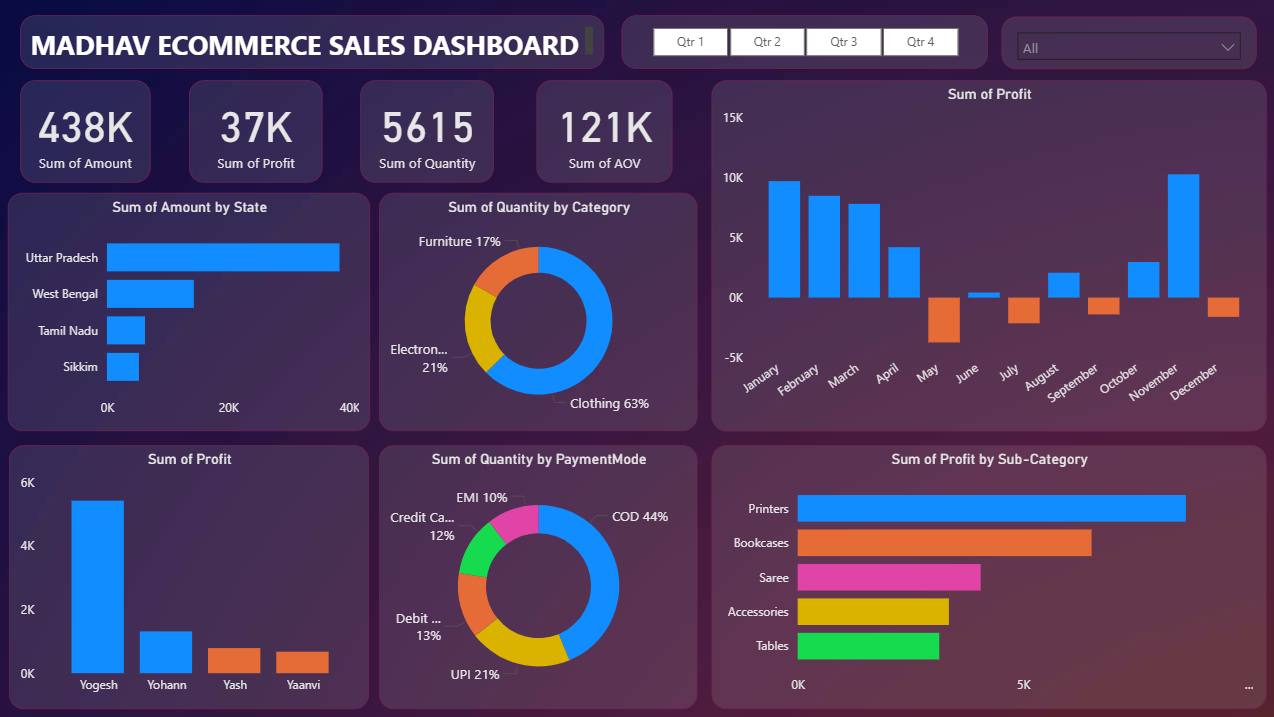

The page's visual inventory and layout, read from the dashboard file:
{"tool":"powerbi","page":{"name":"Page 1","canvas":[1280,720],"ordinal":0},"visuals":[{"type":"textbox","box":[21.2,16.2,583.8,53.8],"z":0},{"type":"columnChart","title":"Sum of Profit ","fields":{"Y":["Details.Profit"],"Category":["Orders.Order Date.Variation.Date Hierarchy.Month"]},"box":[712.5,81.2,555,351.2],"z":1000},{"type":"barChart","fields":{"Category":["Details.Sub-Category"],"Y":["Details.Profit"]},"box":[712.5,446.2,555,263.8],"z":2000},{"type":"donutChart","fields":{"Category":["Details.Category"],"Y":["Details.Quantity"]},"box":[380,193.8,318.8,238.8],"z":3000},{"type":"donutChart","fields":{"Y":["Details.Quantity"],"Category":["Details.PaymentMode"]},"box":[380,446.2,318.8,263.8],"z":4000},{"type":"card","fields":{"Values":["Details.Amount"]},"box":[21.2,81.2,130,102.5],"z":5000},{"type":"card","fields":{"Values":["Details.Profit"]},"box":[190,81.2,133.8,102.5],"z":6000},{"type":"card","fields":{"Values":["Details.Quantity"]},"box":[361.2,81.2,133.8,102.5],"z":7000},{"type":"card","fields":{"Values":["Details.AOV"]},"box":[537.5,81.2,136.2,102.5],"z":8000},{"type":"barChart","fields":{"Category":["Orders.State"],"Y":["Details.Amount"]},"box":[8.8,193.8,362.5,238.8],"z":9000},{"type":"columnChart","title":"Sum of Profit ","fields":{"Category":["Orders.CustomerName"],"Y":["Details.Amount"]},"box":[10,446.2,360,263.8],"z":10000},{"type":"slicer","fields":{"Values":["Orders.Order Date.Variation.Date Hierarchy.Quarter"]},"box":[622.5,16.2,366.2,53.8],"z":11000},{"type":"slicer","fields":{"Values":["Orders.State"]},"box":[1002.5,17.5,255,52.5],"z":12000}]}

Visuals, with their boxes in screenshot pixels (x1, y1, x2, y2), scaled from the page's 1280x720 canvas onto the 1274x717 screenshot:
textbox: bbox=[21, 16, 602, 70]
"Sum of Profit " columnChart: bbox=[709, 81, 1262, 431]
barChart - Details.Sub-Category x Details.Profit: bbox=[709, 444, 1262, 707]
donutChart - Details.Category x Details.Quantity: bbox=[378, 193, 696, 431]
donutChart - Details.Quantity x Details.PaymentMode: bbox=[378, 444, 696, 707]
card - Details.Amount: bbox=[21, 81, 150, 183]
card - Details.Profit: bbox=[189, 81, 322, 183]
card - Details.Quantity: bbox=[360, 81, 493, 183]
card - Details.AOV: bbox=[535, 81, 671, 183]
barChart - Orders.State x Details.Amount: bbox=[9, 193, 370, 431]
"Sum of Profit " columnChart: bbox=[10, 444, 368, 707]
slicer - Orders.Order Date.Variation.Date Hierarchy.Quarter: bbox=[620, 16, 984, 70]
slicer - Orders.State: bbox=[998, 17, 1252, 70]
